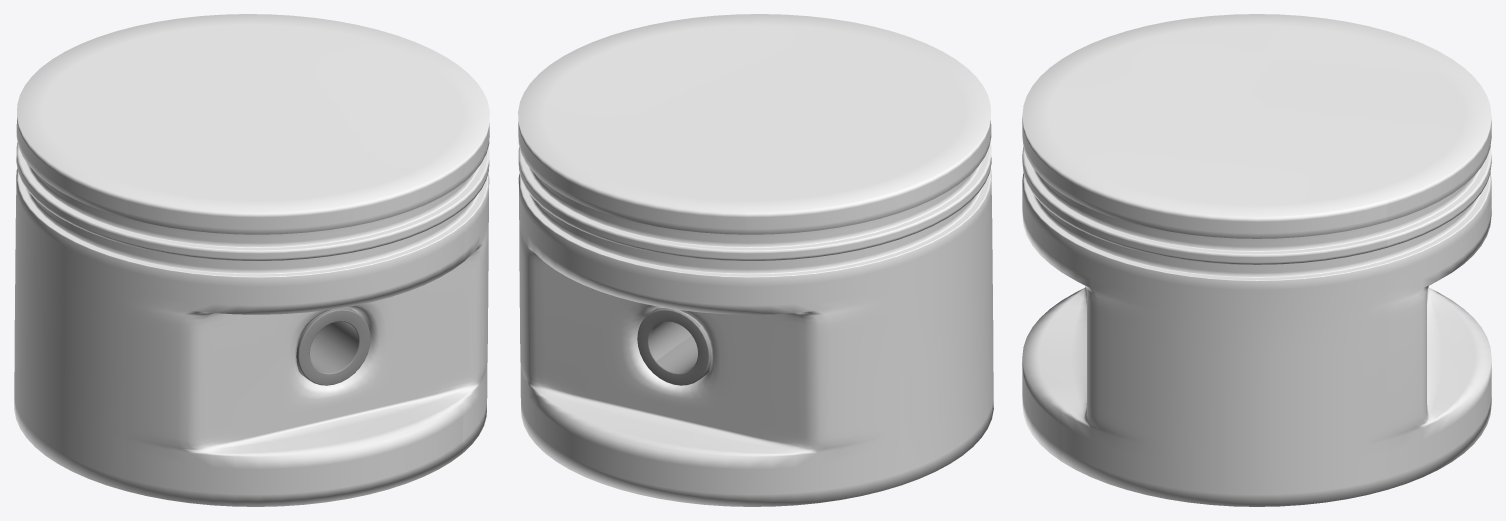
File: piston.glb
The picture shows the model from 3 angles, left to right: view 1: azimuth 30°, elevation 25°; view 2: azimuth 150°, elevation 25°; view 3: azimuth 270°, elevation 25°; orthographic projection.
Visible parts, largest first — view 1: Piston1.004_Metall1_0, Piston1.004_Metall2_0; view 2: Piston1.004_Metall1_0, Piston1.004_Metall2_0; view 3: Piston1.004_Metall1_0.
Boxes of the visible parts, x1=… form: Piston1.004_Metall1_0: x1=14, y1=14, x2=489, y2=506; Piston1.004_Metall2_0: x1=296, y1=308, x2=370, y2=385; Piston1.004_Metall1_0: x1=518, y1=14, x2=993, y2=506; Piston1.004_Metall2_0: x1=637, y1=308, x2=711, y2=385; Piston1.004_Metall1_0: x1=1022, y1=14, x2=1491, y2=506.
Size of the model in its own units: 0.1031 by 0.0713 by 0.1024.
2 materials, 2 textured.
